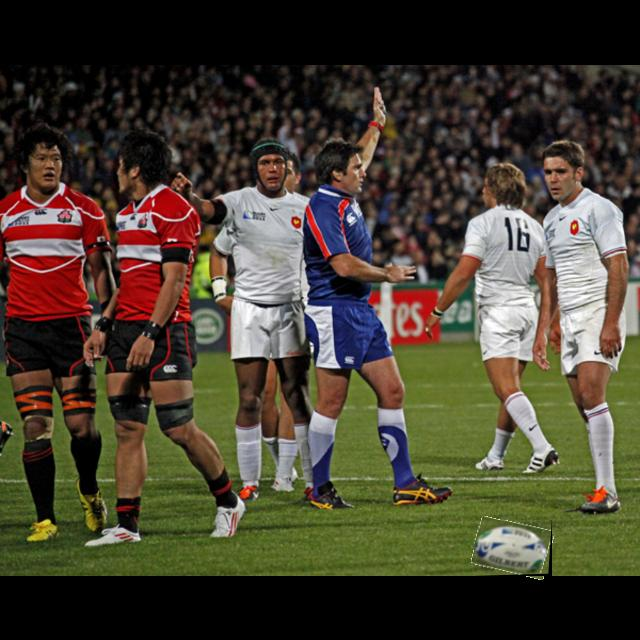Football: (474, 520, 552, 576)
